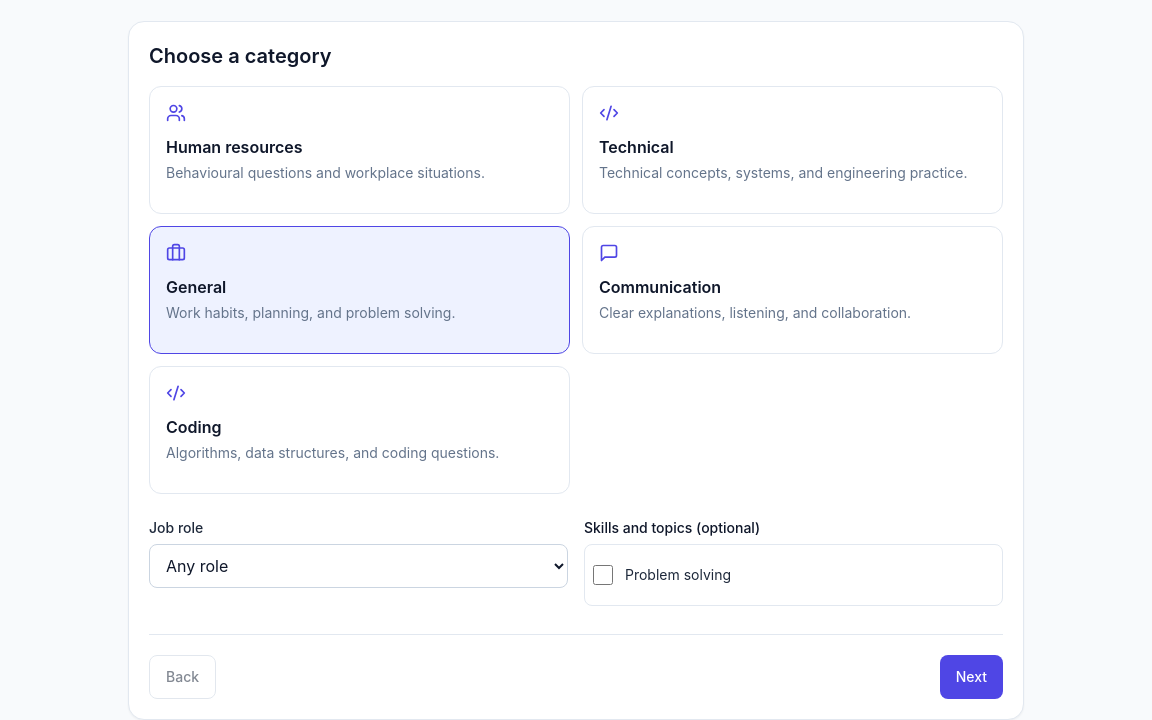
Scenario: InterviewSetupPage › disables languages with no matching questions
(page scrolled)
Click the button "Next".
click(971, 677)  # box [940,655,1003,699]
(page scrolled)
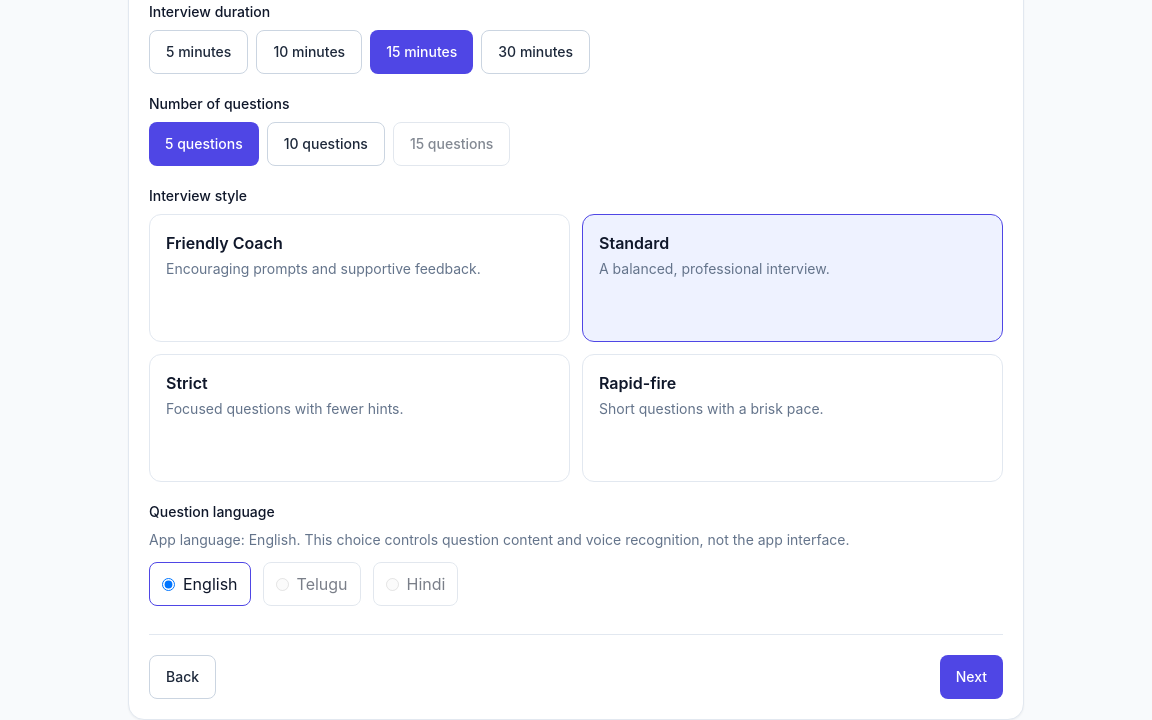
Check: the radio button labelled "Telugu" is disabled, box [276,578,288,590]
Check: the radio button labelled "Hindi" is disabled, box [386,578,399,590]
Check: the radio button labelled "English" is enabled, box [162,578,175,590]
